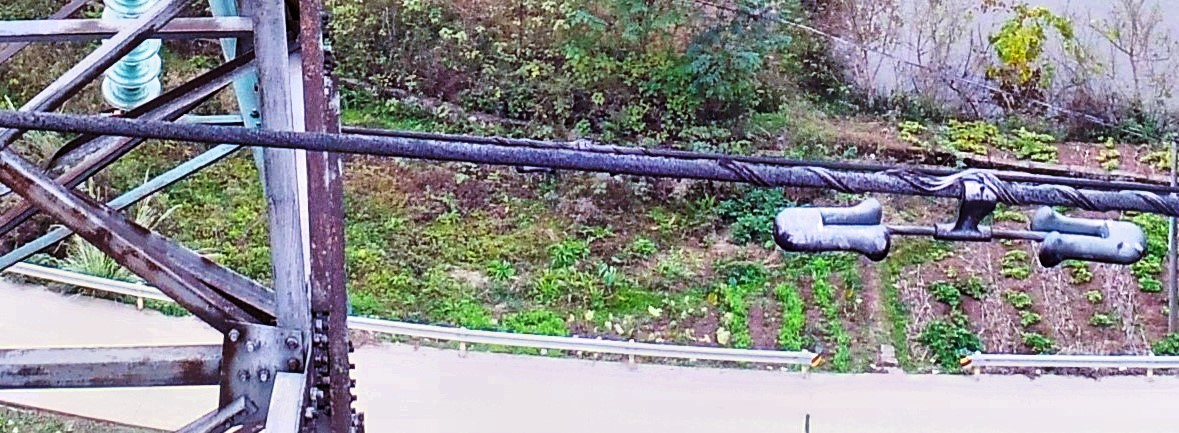Shockproof hammer: (760, 142, 1159, 275)
